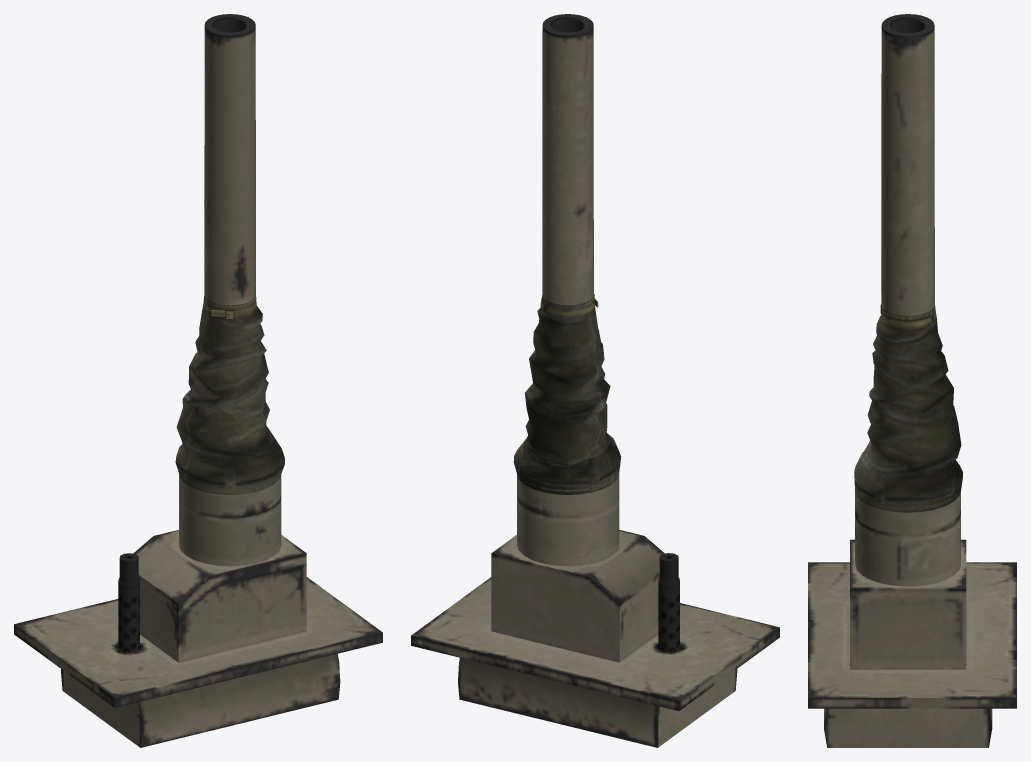
File: Gun_04.glb
3 renders of one model, left to right at view 1: azimuth 30°, elevation 25°; view 2: azimuth 150°, elevation 25°; view 3: azimuth 270°, elevation 25°, orthographic. The views are drawn at different scales.
Parts seen in each view (by area): view 1: set_0_group_0; view 2: set_0_group_0; view 3: set_0_group_0.
Part boxes in pixels (x1,y1,x2,y2): set_0_group_0: [14, 14, 382, 747]; set_0_group_0: [411, 14, 779, 747]; set_0_group_0: [808, 14, 1016, 747].
Size of the model in its own units: 0.69 by 1.63 by 0.449.
1 material, 1 textured.
